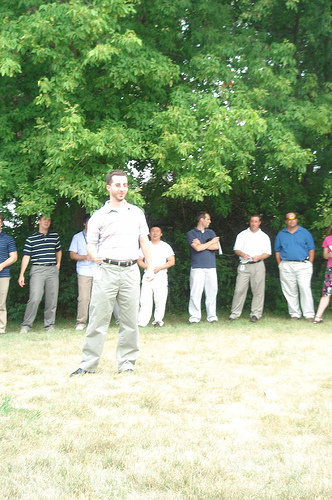without_mask: (103, 171, 133, 203), (194, 210, 213, 232), (283, 210, 301, 232), (34, 212, 54, 231), (246, 213, 262, 233), (148, 224, 164, 244)
